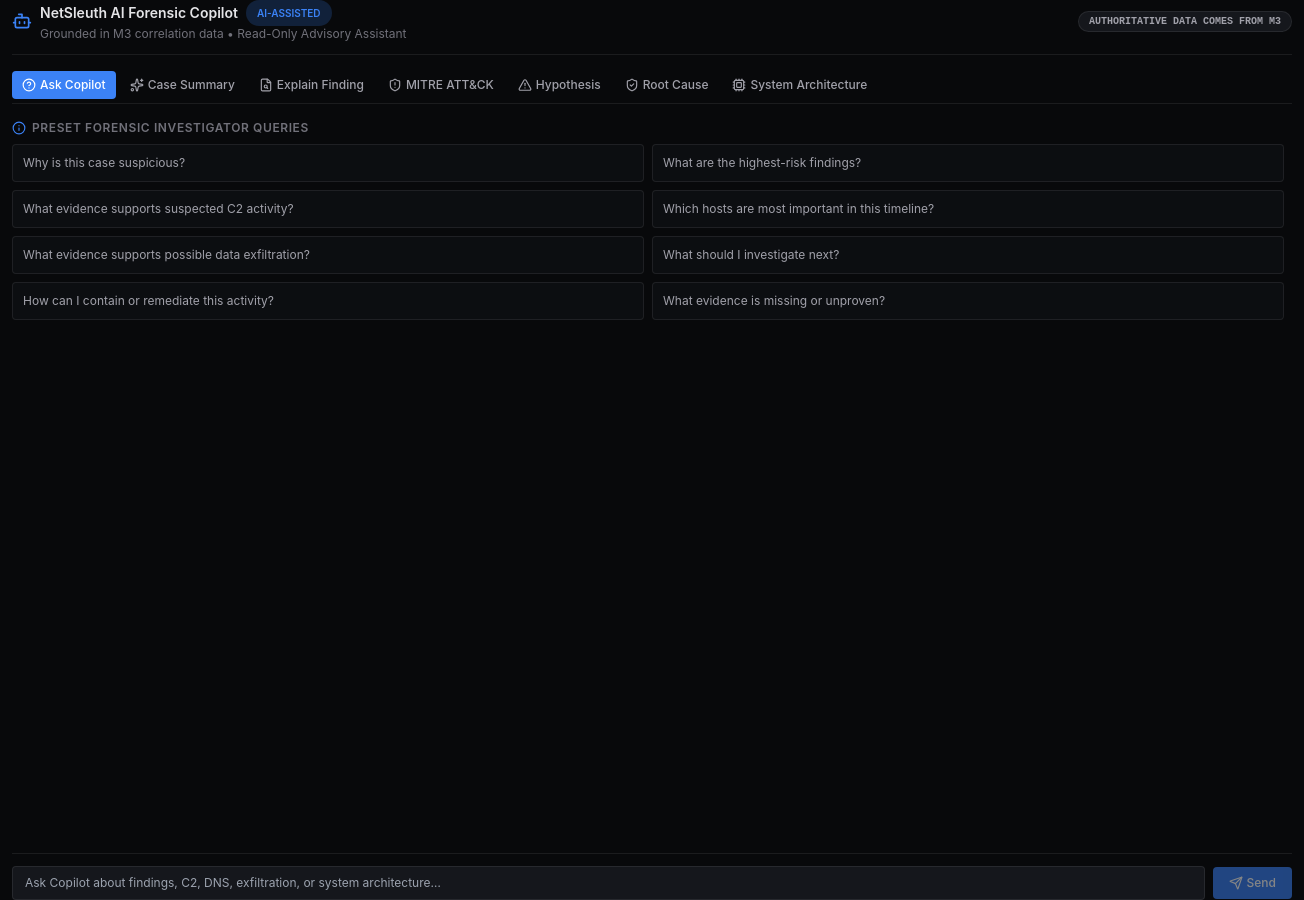
Scenario: CopilotPanel Component › T22: "question" field is never rendered
Click the button "Why is this case suspicious?" at coordinates (104, 162), box [12,144,644,182]
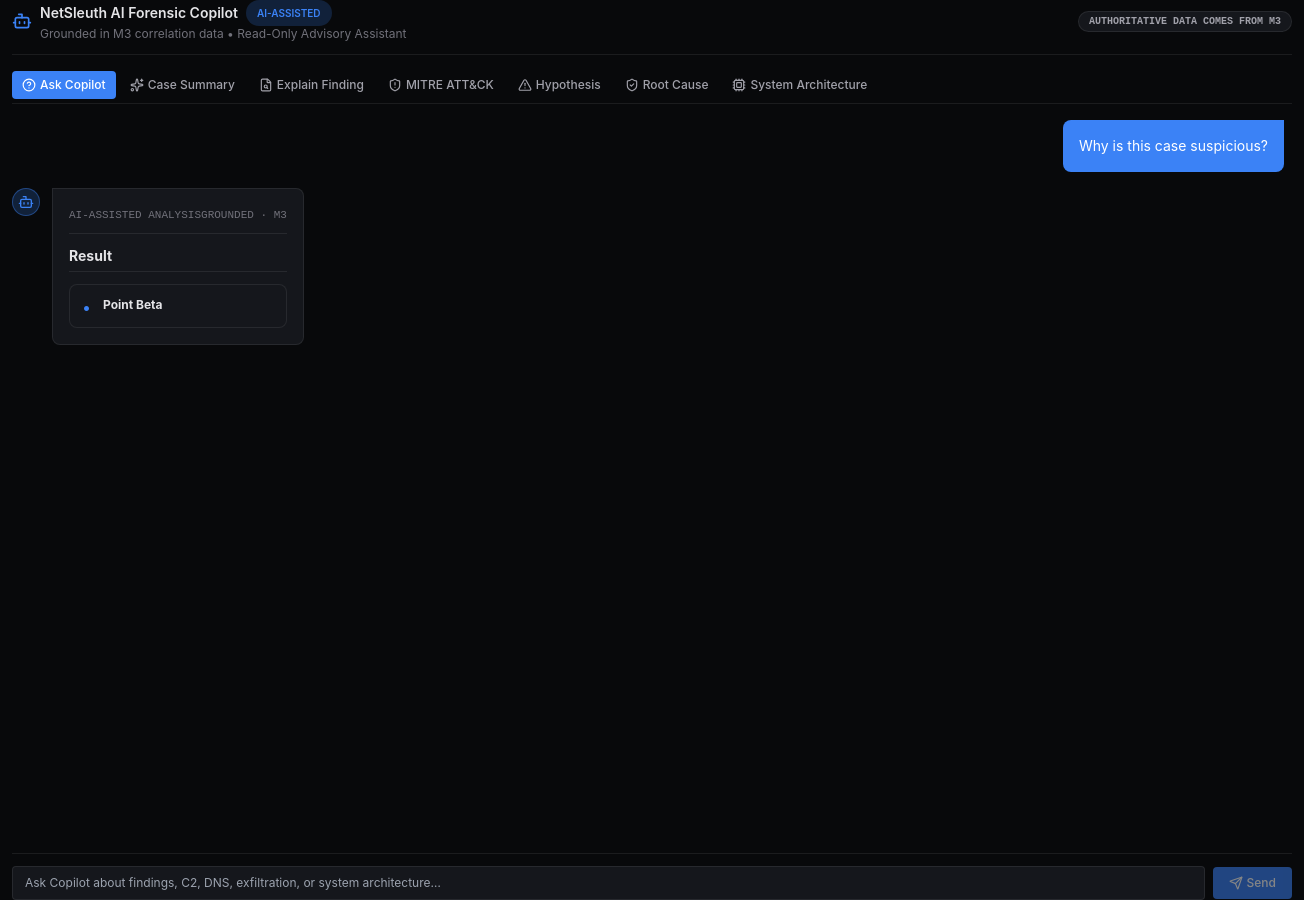
expect the text "Point Beta" is shown: met, box [103,297,162,314]
